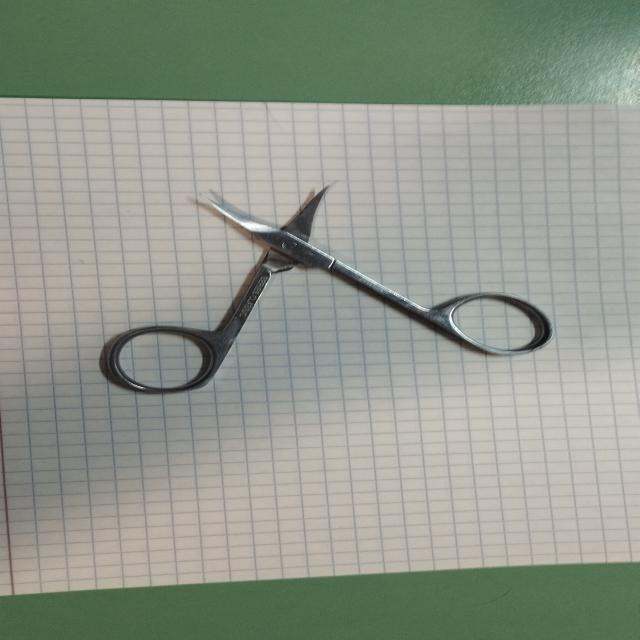tesoura: (88, 179, 562, 400)
